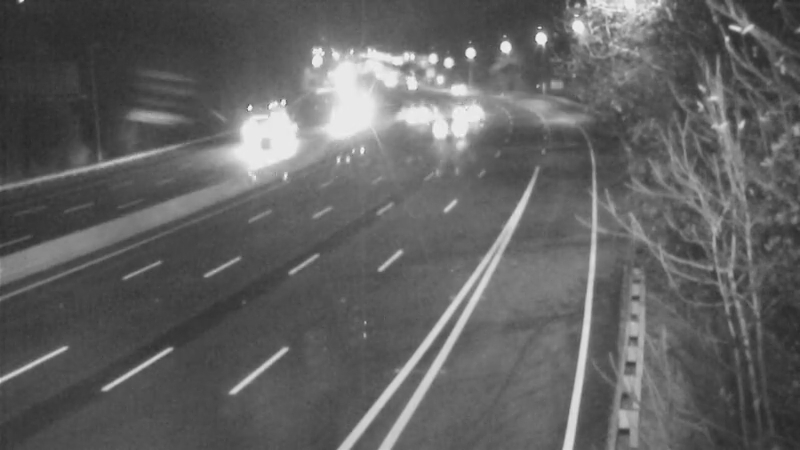vehicle: (366, 58, 416, 108), (386, 61, 436, 111), (441, 67, 491, 117), (447, 87, 497, 137), (391, 86, 441, 136), (423, 104, 473, 154), (228, 103, 278, 153), (261, 116, 311, 166), (318, 94, 368, 144)
